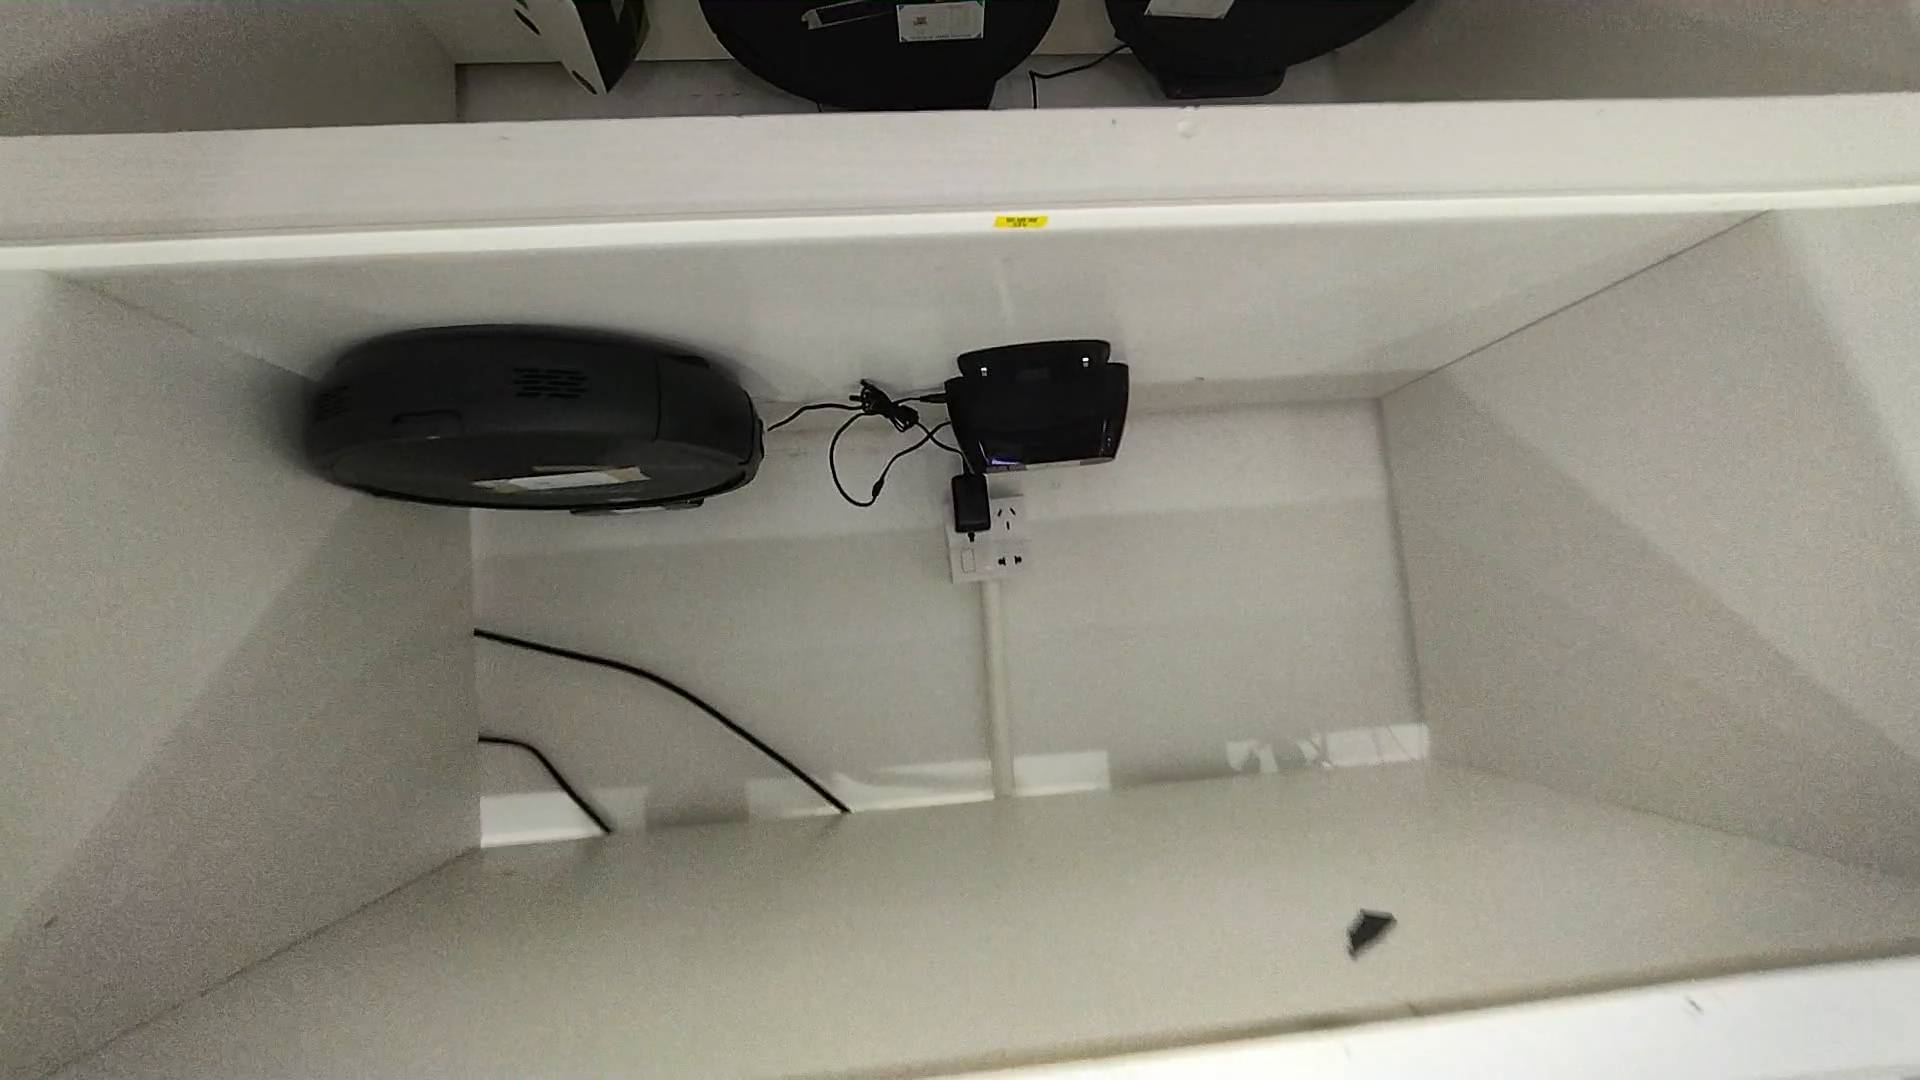recharge seat: (943, 338, 1131, 469)
